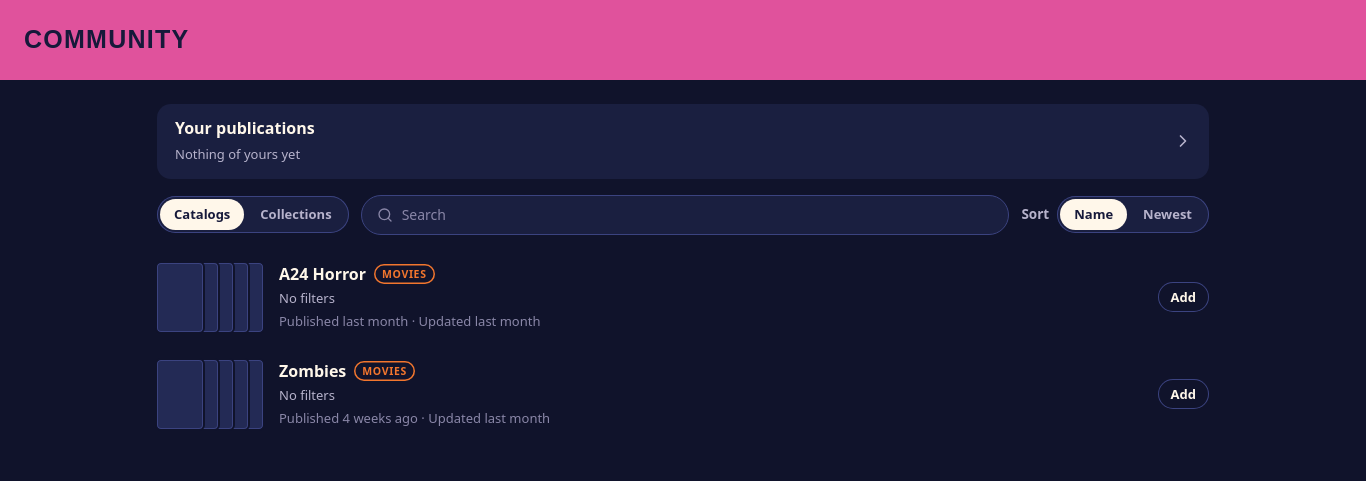
Test: CommunityView › holds back a search of over eight words, saying why, and keeps the rows on show
Expected: the text "A24 Horror" is shown, [279, 264, 366, 285]
Type "one two three four five six seven eight nine" into the search field named "Search Community". click: [685, 215]
box: [361, 195, 1009, 235]
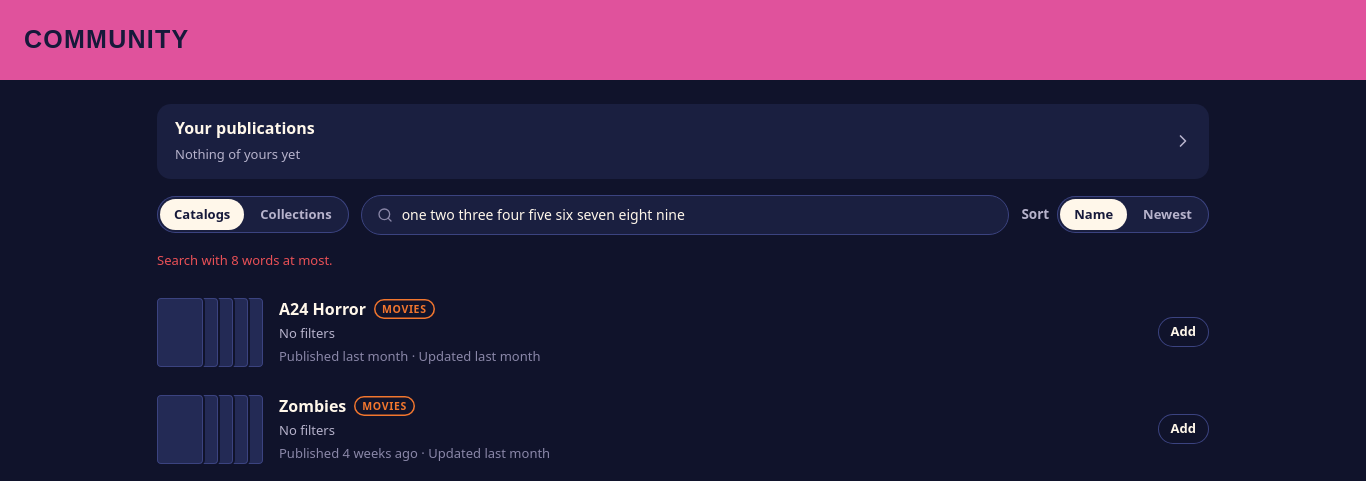
Now the text "Search with 8 words at most." is shown, box [157, 251, 333, 269]
